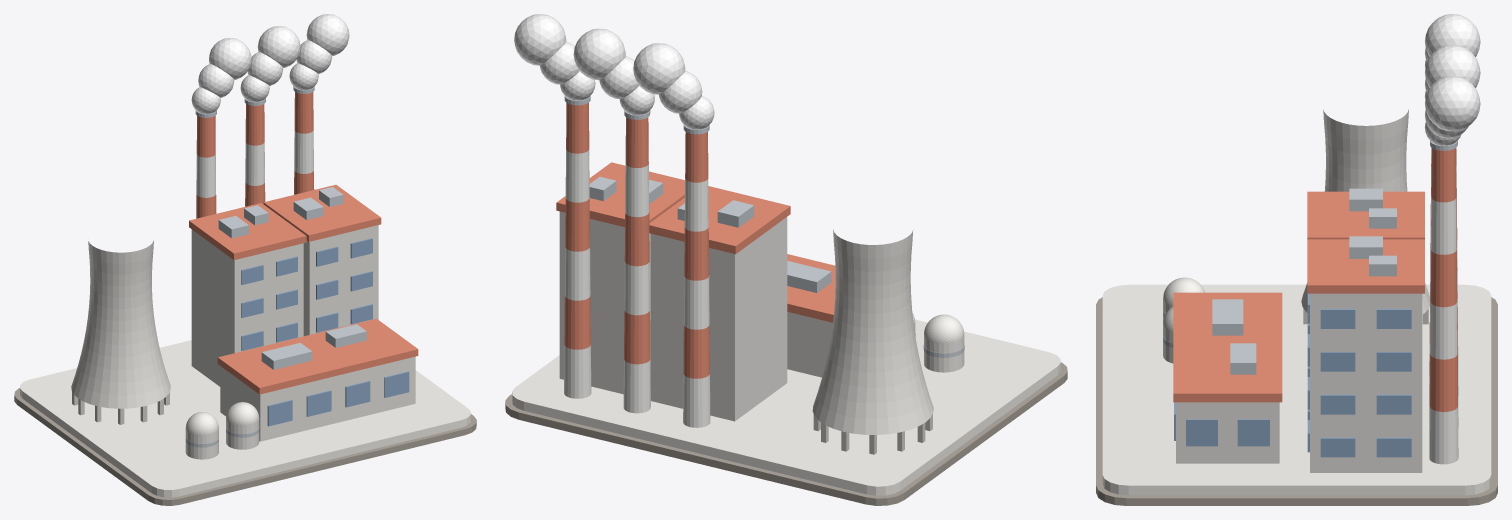
The model's file is coal.glb.
The picture shows the model from 3 angles, left to right: view 1: azimuth 30°, elevation 25°; view 2: azimuth 150°, elevation 25°; view 3: azimuth 270°, elevation 25°; orthographic projection. The views are drawn at different scales.
Visible parts, largest first — view 1: concrete, base, red, steam, window, rim_6e6458, metal, tank, white, concrete_dark; view 2: concrete, base, red, white, steam, rim_6e6458, metal, tank, concrete_dark; view 3: base, concrete, red, window, rim_6e6458, steam, metal, white, tank.
Part boxes in pixels (bbox=[...]): concrete: bbox=[71, 225, 415, 441]; base: bbox=[20, 340, 470, 497]; red: bbox=[189, 92, 418, 394]; steam: bbox=[191, 14, 349, 113]; window: bbox=[241, 238, 409, 426]; rim_6e6458: bbox=[14, 388, 476, 505]; metal: bbox=[185, 86, 366, 447]; tank: bbox=[185, 402, 259, 459]; white: bbox=[196, 130, 313, 197]; concrete_dark: bbox=[72, 391, 169, 424]; concrete: bbox=[559, 211, 933, 434]; base: bbox=[512, 319, 1060, 495]; red: bbox=[556, 102, 835, 378]; white: bbox=[564, 149, 710, 427]; steam: bbox=[514, 14, 714, 129]; rim_6e6458: bbox=[505, 362, 1067, 505]; metal: bbox=[564, 96, 964, 357]; tank: bbox=[912, 313, 964, 372]; concrete_dark: bbox=[813, 414, 932, 454]; base: bbox=[1102, 284, 1491, 495]; concrete: bbox=[1176, 109, 1429, 472]; red: bbox=[1173, 148, 1457, 411]; window: bbox=[1174, 293, 1411, 457]; rim_6e6458: bbox=[1096, 297, 1497, 505]; steam: bbox=[1424, 14, 1480, 145]; metal: bbox=[1163, 140, 1457, 374]; white: bbox=[1429, 148, 1458, 464]; tank: bbox=[1163, 277, 1204, 363].
Size of the model in its own units: 11.3 by 10.59 by 9.3.
